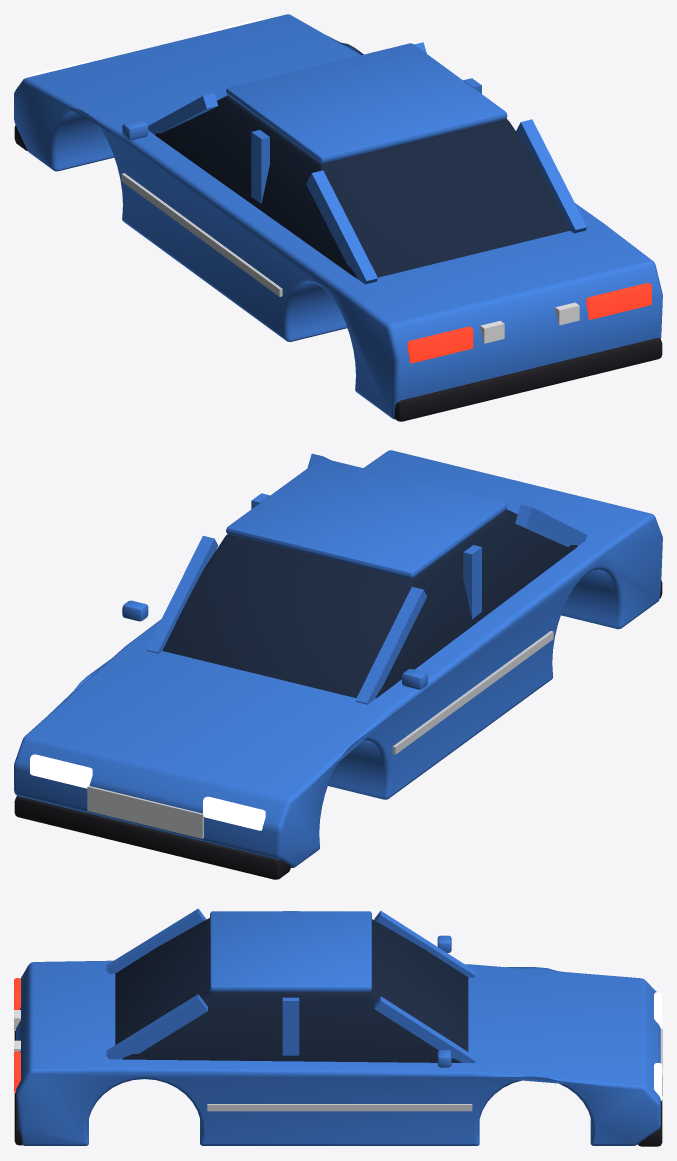
The model's file is sedan_body.glb.
3 views of the same model, one above another, from view 1: azimuth 30°, elevation 25°; view 2: azimuth 150°, elevation 25°; view 3: azimuth 270°, elevation 25° (orthographic). The views are drawn at different scales.
Visible parts, largest first — view 1: SedanBody; view 2: SedanBody; view 3: SedanBody.
Boxes of the visible parts, <box> form: SedanBody: <box>14,14,662,421</box>; SedanBody: <box>14,450,662,879</box>; SedanBody: <box>14,908,662,1146</box>.
Bounding box in the file's own units: 2.08 × 1.15 × 4.65.
